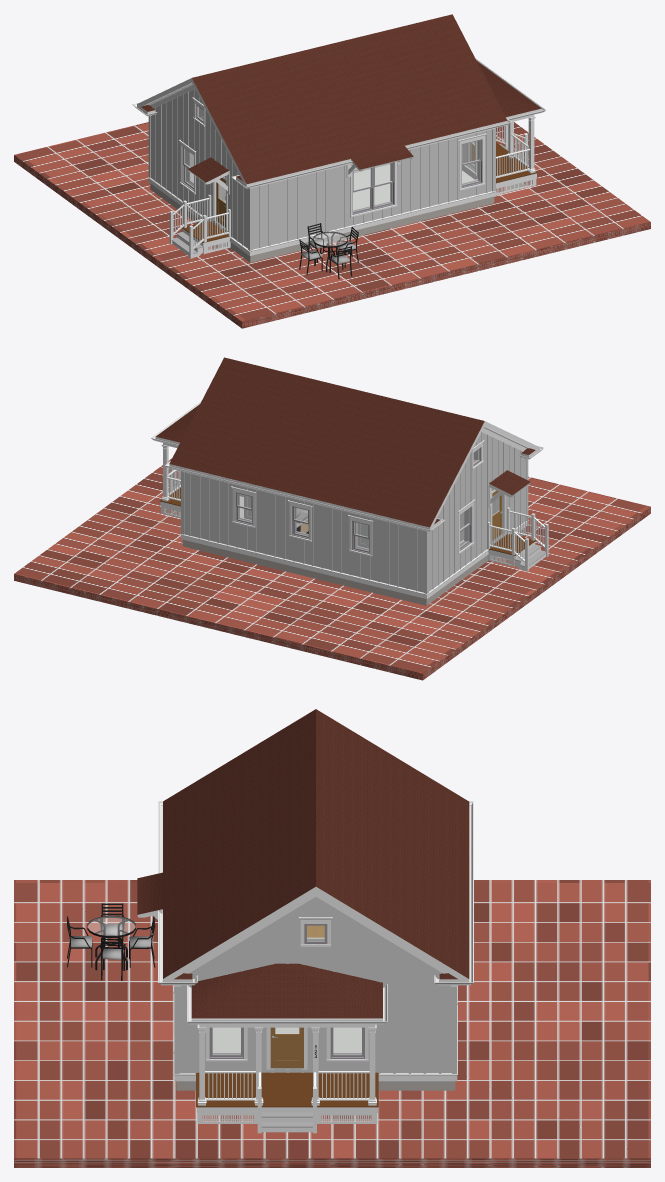
File: Productos.glb
3 views of the same model, one above another, from view 1: azimuth 30°, elevation 25°; view 2: azimuth 150°, elevation 25°; view 3: azimuth 270°, elevation 25° (orthographic). The views are drawn at different scales.
Visible parts, largest first — view 1: Volumen Suelo, Object_45, Object_39, Object_55, Object_27, Object_12, Object_7, Object_6, Object_32, Object_57, Object_16; view 2: Volumen Suelo, Object_45, Object_39, Object_55, Object_12, Object_27, Object_6, Object_32, Object_15; view 3: Volumen Suelo, Object_45, Object_39, Object_55, Object_32, Object_27, Object_7, Object_56, Object_12, Object_6.
Part boxes in pixels (x1,y1,x2,y2): Volumen Suelo: (14, 122, 650, 328); Object_45: (141, 14, 541, 183); Object_39: (148, 89, 495, 250); Object_55: (132, 58, 545, 258); Object_27: (184, 107, 479, 211); Object_12: (150, 183, 494, 262); Object_7: (190, 164, 474, 210); Object_6: (182, 104, 482, 214); Object_32: (182, 142, 537, 242); Object_57: (184, 106, 479, 211); Object_16: (186, 107, 479, 229); Volumen Suelo: (14, 458, 650, 680); Object_45: (156, 357, 535, 527); Object_39: (181, 432, 528, 593); Object_55: (151, 401, 548, 598); Object_12: (182, 527, 526, 605); Object_27: (238, 450, 499, 550); Object_6: (235, 447, 481, 554); Object_32: (160, 487, 535, 555); Object_15: (244, 494, 499, 548); Volumen Suelo: (14, 880, 650, 1167); Object_45: (137, 709, 469, 1018); Object_39: (174, 897, 457, 1073); Object_55: (137, 801, 473, 1133); Object_32: (196, 1072, 378, 1107); Object_27: (213, 926, 361, 1054); Object_7: (212, 1027, 361, 1052); Object_56: (270, 1027, 303, 1067); Object_12: (176, 1081, 455, 1090); Object_6: (209, 924, 364, 1058).
Size of the model in its own units: 13 by 4.79 by 12.57.
53 materials, 4 textured.
